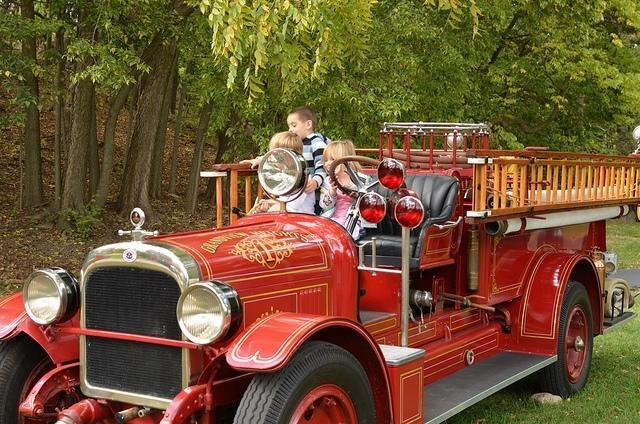truck: (0, 107, 640, 424)
